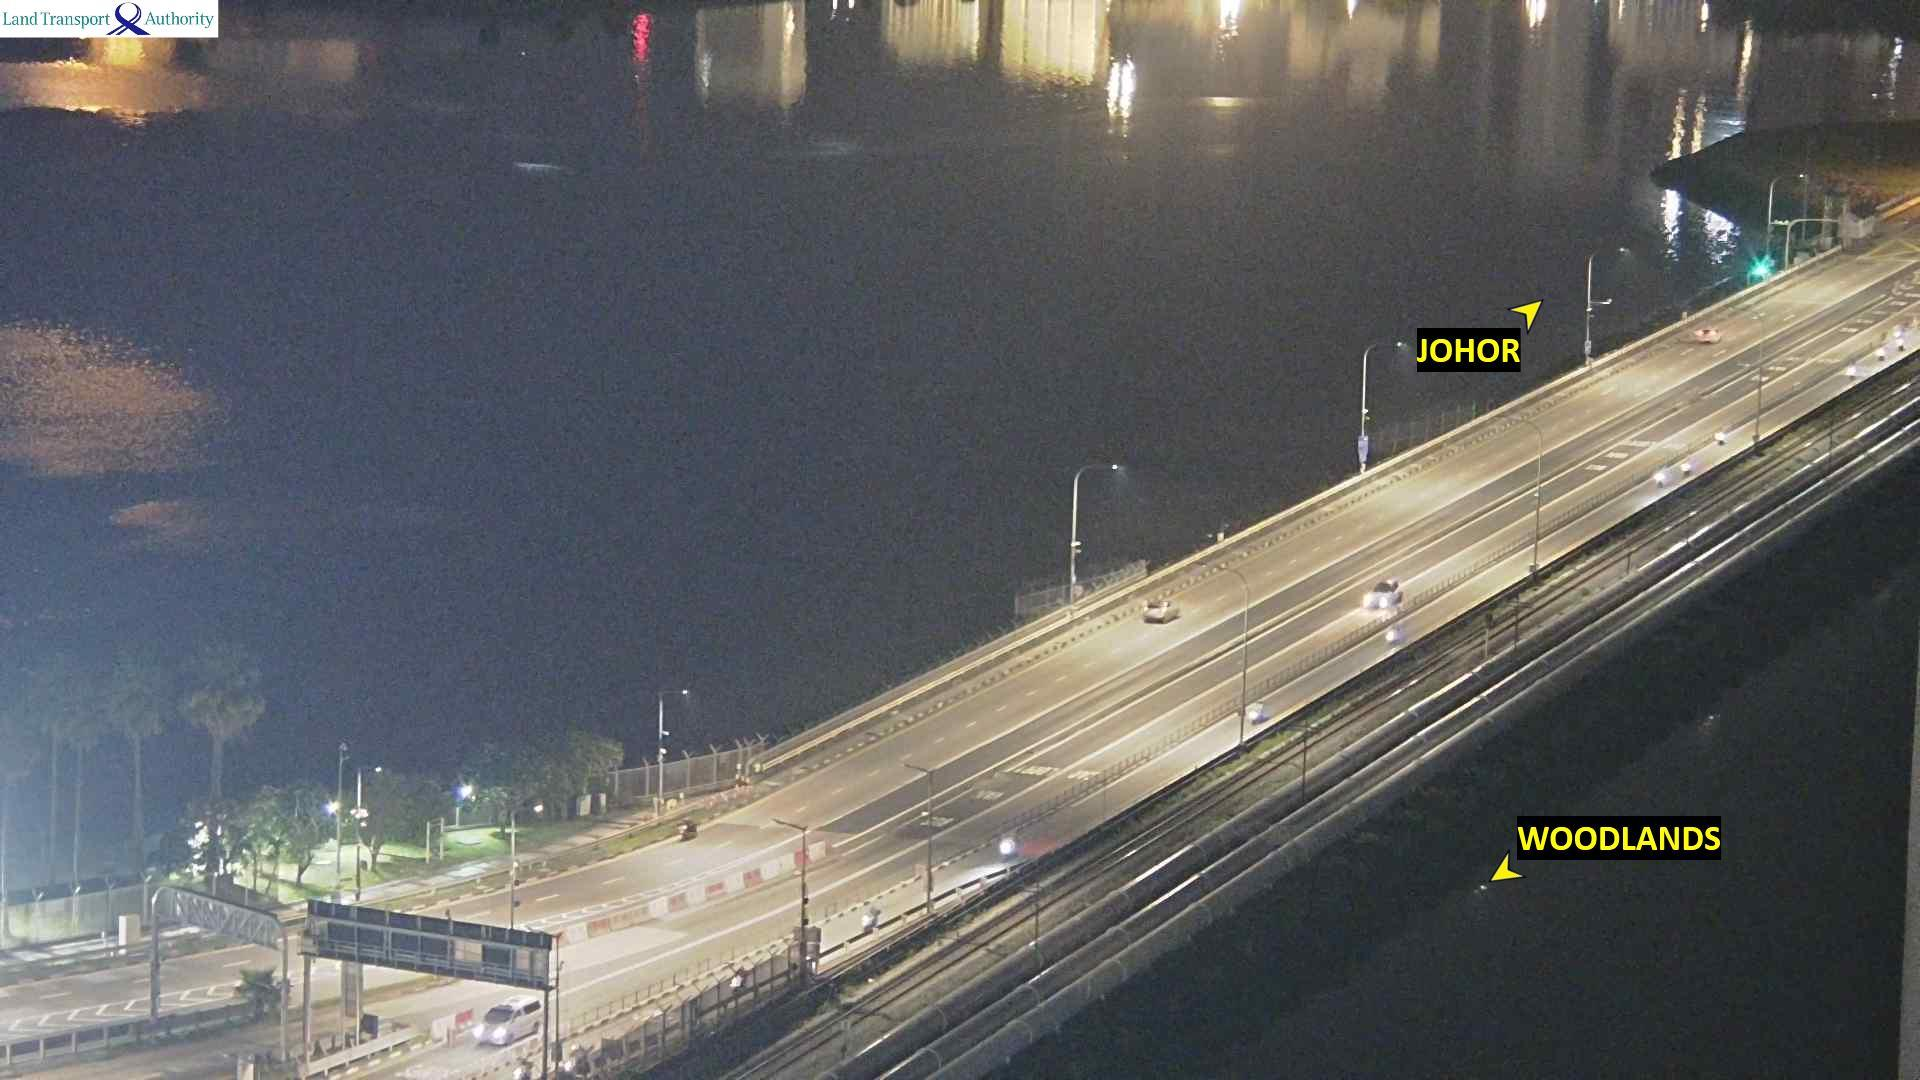vehicle-causeway-johor: (1144, 599, 1179, 624), (675, 818, 695, 843), (1700, 328, 1722, 348)
vehicle-causeway-singapore: (475, 1004, 532, 1054), (1368, 581, 1401, 613), (1000, 833, 1016, 861), (1384, 624, 1404, 644), (1895, 324, 1910, 350), (862, 905, 880, 926), (1250, 702, 1264, 723), (1653, 468, 1665, 488), (1847, 363, 1858, 380), (1681, 462, 1692, 476), (1877, 343, 1886, 360), (1717, 432, 1726, 444)
